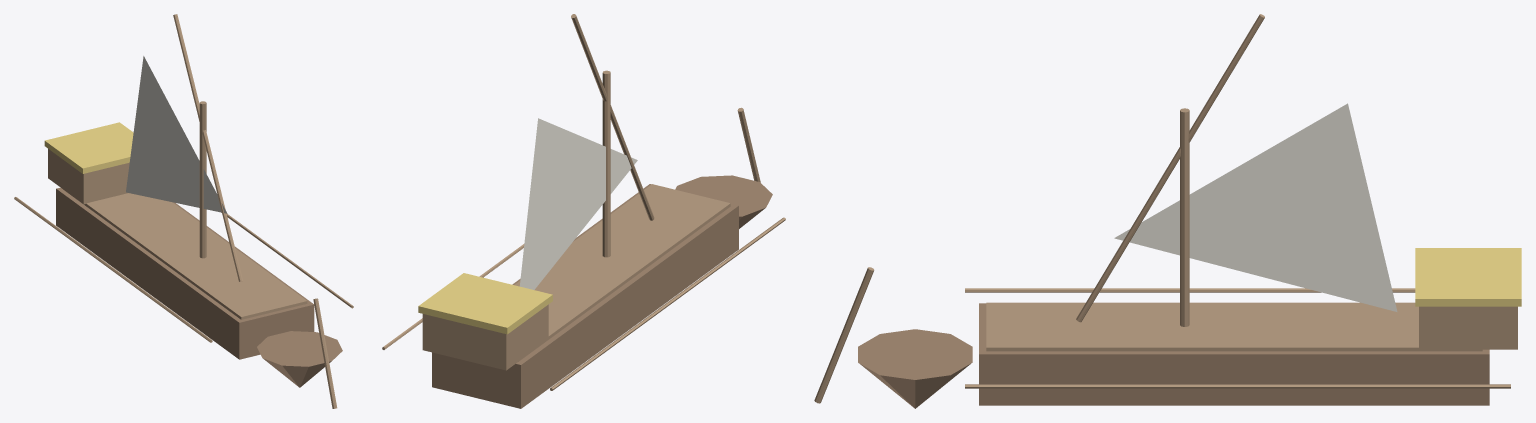
Rendered from galley.glb.
The picture shows the model from 3 angles, left to right: view 1: azimuth 30°, elevation 25°; view 2: azimuth 150°, elevation 25°; view 3: azimuth 270°, elevation 25°; orthographic projection. The views are drawn at different scales.
Visible parts, largest first — view 1: Galley; view 2: Galley; view 3: Galley, OarR0, OarL0.
Part boxes in pixels (x1=…): Galley: x1=44, y1=14, x2=342, y2=408; Galley: x1=418, y1=14, x2=772, y2=408; Galley: x1=814, y1=14, x2=1521, y2=408; OarR0: x1=965, y1=384, x2=1149, y2=388; OarL0: x1=965, y1=288, x2=1149, y2=292.
Size of the model in its own units: 3.26 by 6.14 by 9.97.
